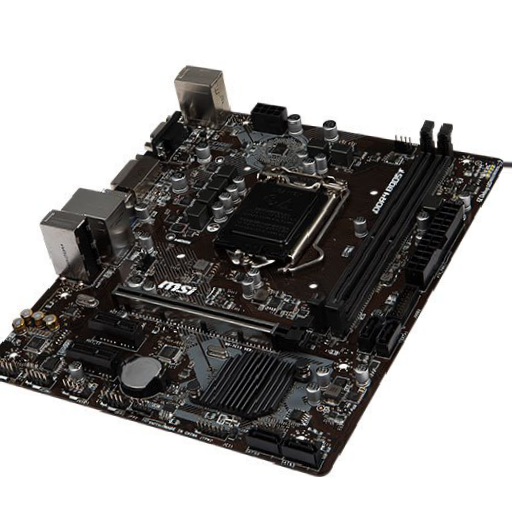CPU: (218, 166, 351, 268)
GPU: (96, 279, 308, 352)
MOTHERBOARD: (1, 102, 502, 475)
RAM: (309, 120, 456, 335)
